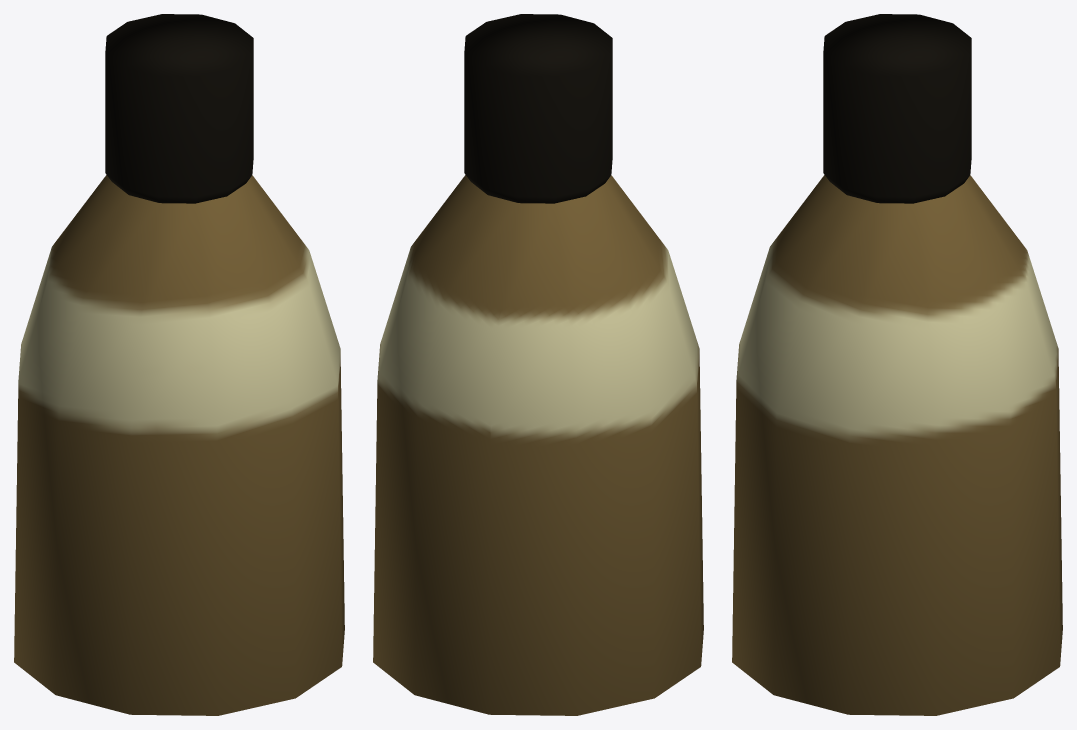
File: MedicineBottle_1.fbx
3 renders of one model, left to right at view 1: azimuth 30°, elevation 25°; view 2: azimuth 150°, elevation 25°; view 3: azimuth 270°, elevation 25°, orthographic.
Visible parts, largest first — view 1: MedicineBottle_1; view 2: MedicineBottle_1; view 3: MedicineBottle_1.
Part boxes in pixels (x1,y1,x2,y2): MedicineBottle_1: (14,14,344,715); MedicineBottle_1: (373,14,703,715); MedicineBottle_1: (732,14,1062,715).
Bounding box in the file's own units: 41.54 × 83.24 × 41.54.
